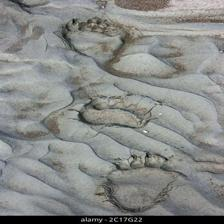bear: (104, 151, 179, 213), (80, 93, 152, 130)
